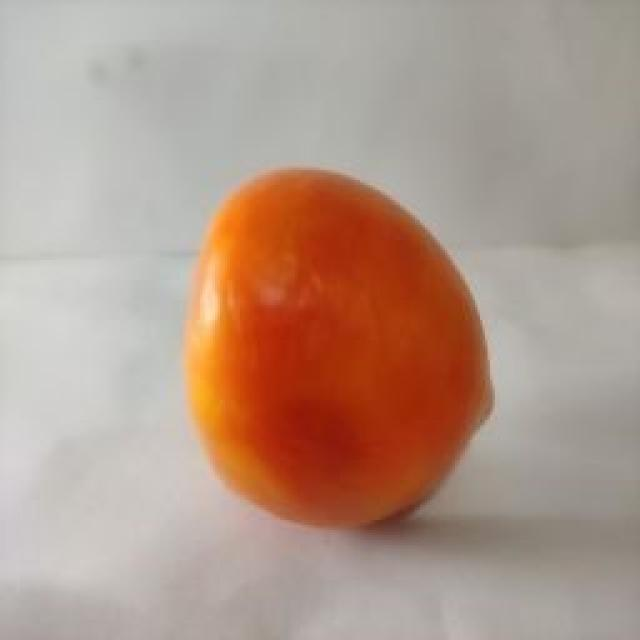Ripe: (175, 159, 500, 536)
